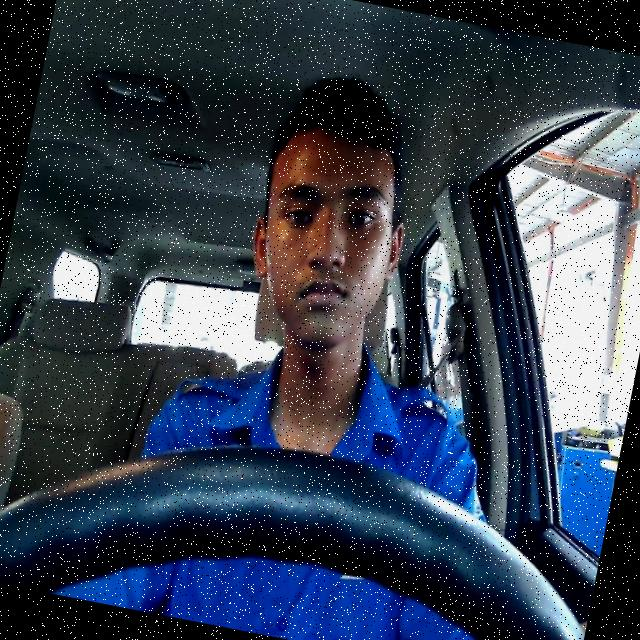focused: (234, 120, 421, 360)
